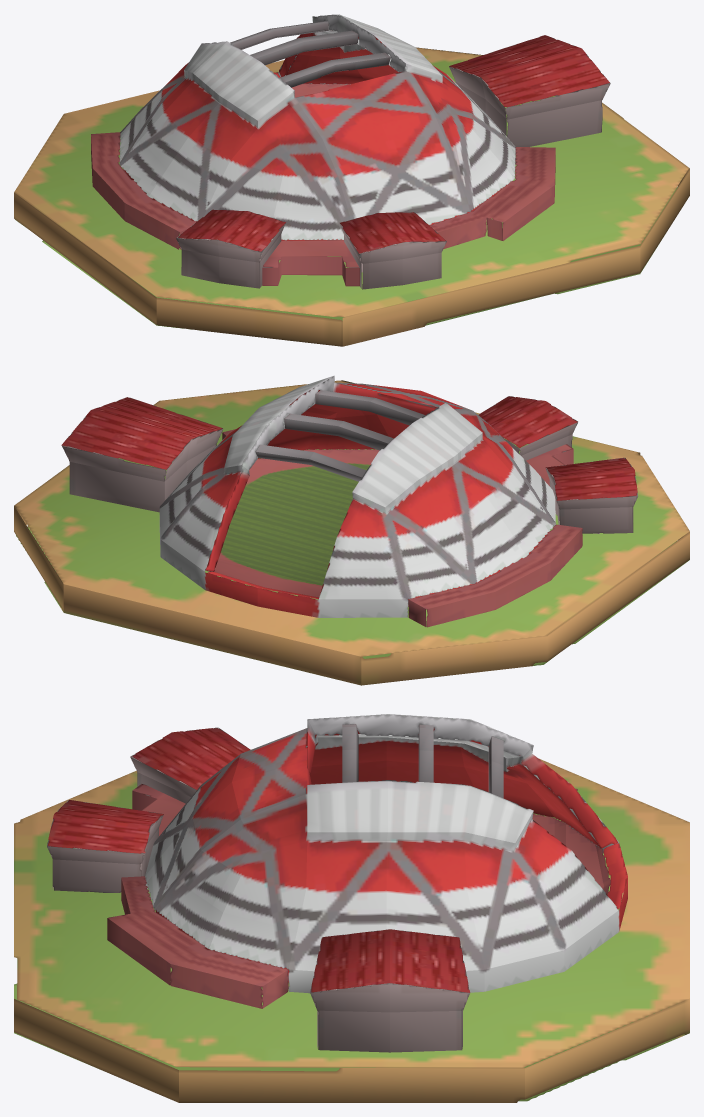
File: NationalStadium.fbx
The picture shows the model from 3 angles, top to bottom: view 1: azimuth 30°, elevation 25°; view 2: azimuth 150°, elevation 25°; view 3: azimuth 270°, elevation 25°; orthographic projection. The views are drawn at different scales.
Parts seen in each view (by area): view 1: combined; view 2: combined; view 3: combined.
Boxes of the visible parts, x1,y1,x2,y2 form: combined: (14, 14, 689, 346); combined: (14, 375, 689, 685); combined: (14, 714, 689, 1102).
Bounding box in the file's own units: 760 × 209 × 688.
